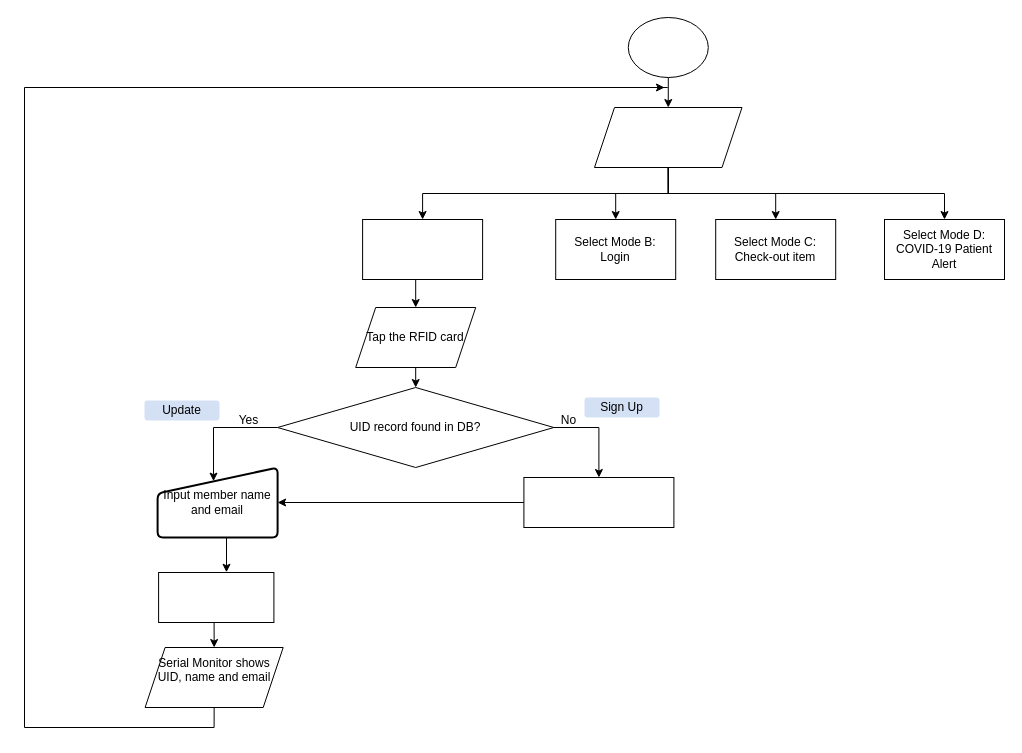
Image size: 1022x753. Some labels were removed from this diagram. Here are the shapes that lost their labels. From the top down, the centre of each, then its label:
At (667,47): "Start".
At (668,137): "OLED show 4 modes".
At (422,249): "Select Mode A: Sign-up/Update member record".
At (598,502): "Insert a new UID record in DB".
At (216,597): "RFID card and DB store inputted data".
